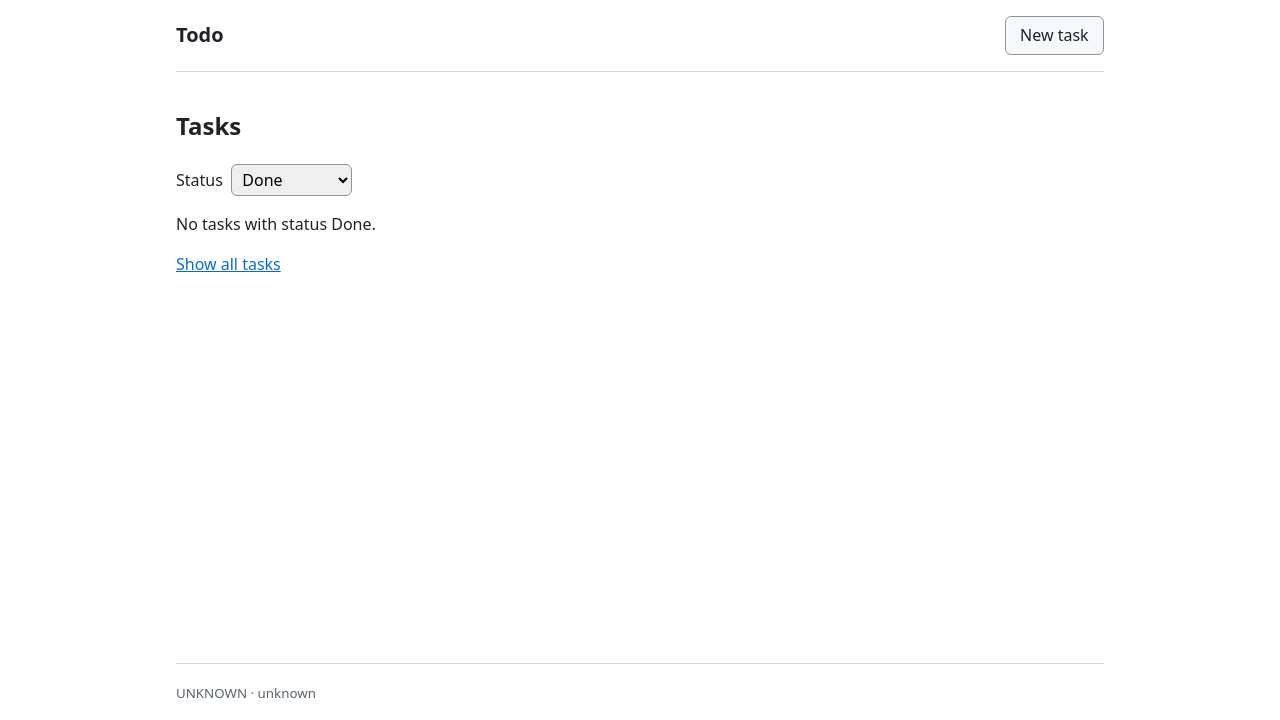
Test: SCRUM-6 task list status › SCRUM-6-AC-14: an empty filtered result names the filter and "Show all tasks" clears it
Check: the text "No tasks with status Done." is shown, box [176, 213, 376, 235]
Click the link "Show all tasks" at (228, 264), box [176, 253, 281, 275]
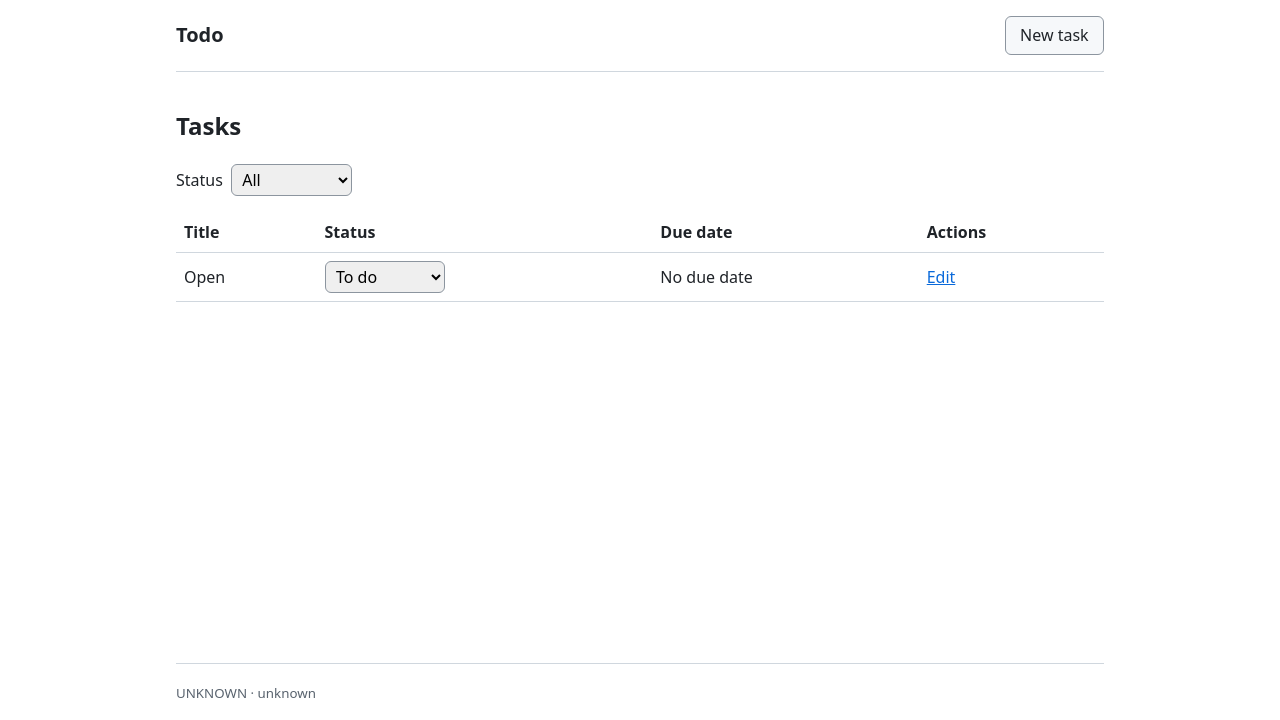
Check: the dropdown named "Status for Open" is shown, box [324, 261, 445, 293]
Check: the dropdown labelled "Status" shows "All", box [231, 164, 352, 196]
